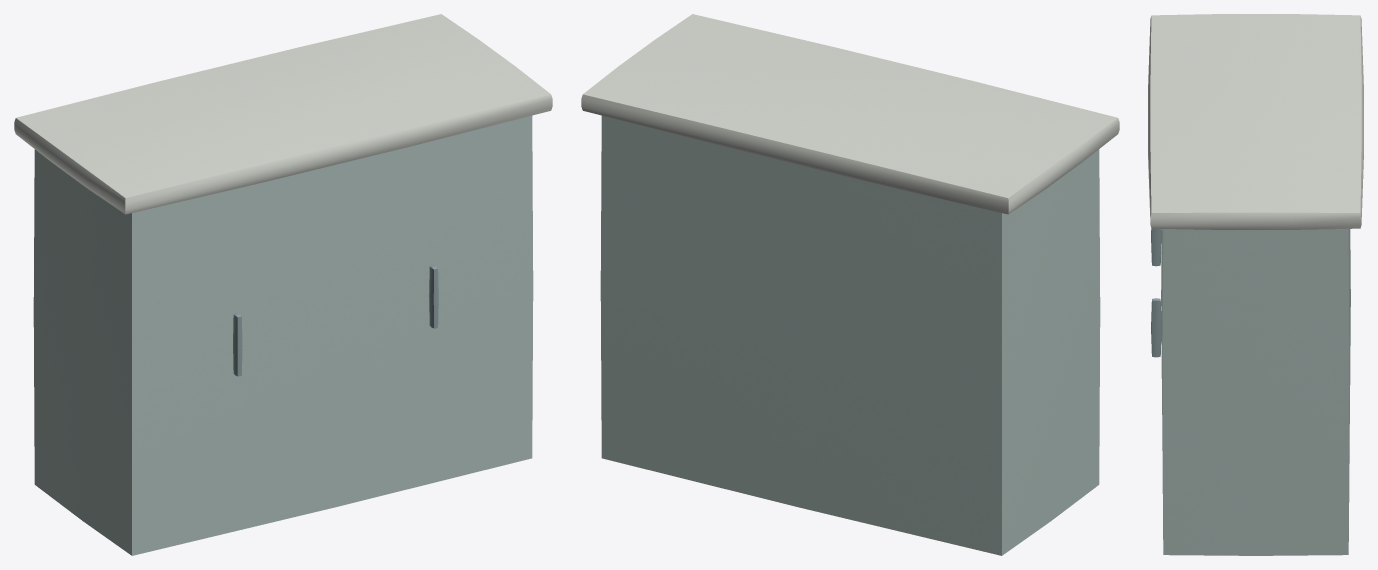
Rendered from worktop.glb.
3 renders of one model, left to right at view 1: azimuth 30°, elevation 25°; view 2: azimuth 150°, elevation 25°; view 3: azimuth 270°, elevation 25°, orthographic. The views are drawn at different scales.
Parts seen in each view (by area): view 1: worktop; view 2: worktop; view 3: worktop.
Boxes of the visible parts, x1,y1,x2,y2 form: worktop: [14, 14, 552, 555]; worktop: [581, 14, 1119, 555]; worktop: [1148, 14, 1363, 555].
Bounding box in the file's own units: 1.1 × 0.9025 × 0.5.
4 materials, 4 textured.
